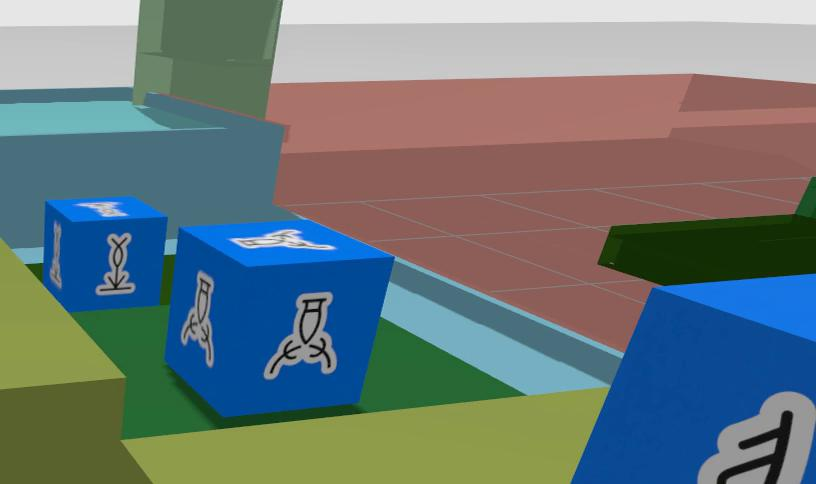KFS_REAL: (570, 274, 815, 483), (164, 220, 394, 416), (43, 196, 167, 310), (697, 391, 815, 483), (263, 292, 337, 380), (180, 271, 214, 365), (96, 232, 134, 295), (229, 229, 334, 249), (47, 222, 62, 289), (75, 201, 127, 216)
